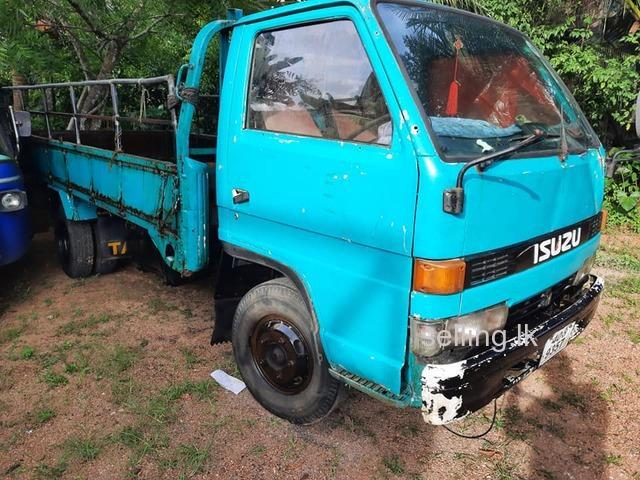truck: (29, 1, 608, 424)
